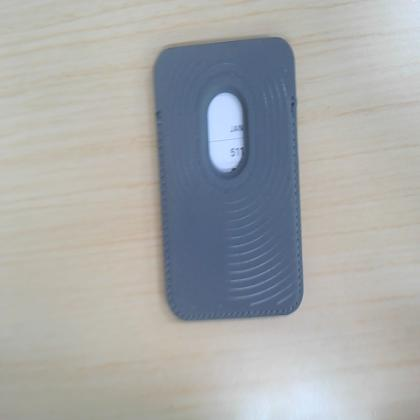pics: (155, 38, 303, 319)
